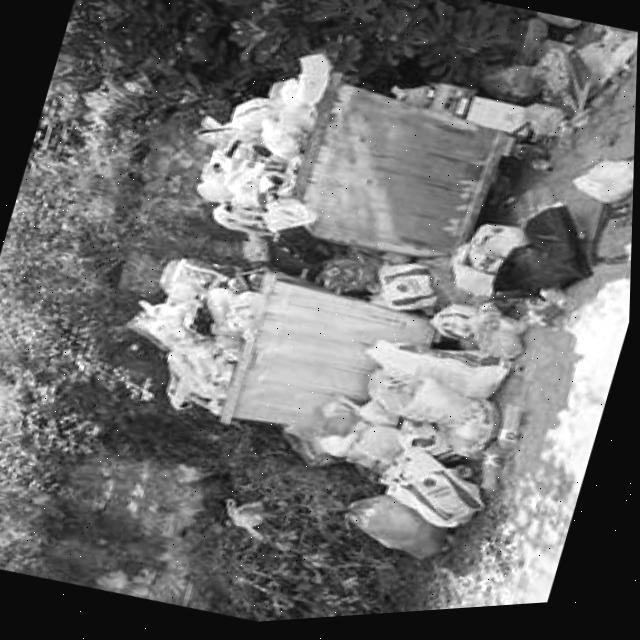Garbage: (197, 58, 589, 562), (391, 37, 638, 181), (129, 261, 264, 418), (574, 169, 635, 211), (227, 501, 269, 544), (245, 272, 266, 292)
Metal: (465, 102, 530, 145)
Plastic: (159, 261, 251, 365), (532, 36, 638, 126), (198, 152, 261, 209), (258, 160, 303, 210), (524, 296, 578, 337), (297, 58, 333, 113), (251, 144, 272, 161), (226, 142, 237, 160)
Plastic_Bag: (128, 303, 243, 418), (369, 375, 500, 462), (195, 82, 316, 163), (286, 401, 404, 480), (367, 344, 513, 406), (495, 213, 591, 303), (382, 452, 486, 534), (327, 500, 449, 565), (416, 262, 489, 313), (398, 424, 468, 473), (472, 309, 528, 366), (374, 269, 438, 316), (572, 168, 635, 212), (316, 258, 380, 296), (430, 310, 480, 356), (275, 230, 334, 268), (470, 230, 528, 263), (469, 230, 527, 263), (227, 501, 269, 544), (262, 201, 315, 235), (215, 205, 271, 237), (455, 251, 507, 282), (453, 268, 495, 304), (228, 294, 263, 336)
Plastic_bottle: (390, 89, 472, 124), (524, 110, 569, 145), (498, 411, 526, 457), (482, 452, 508, 500), (252, 165, 294, 177)
